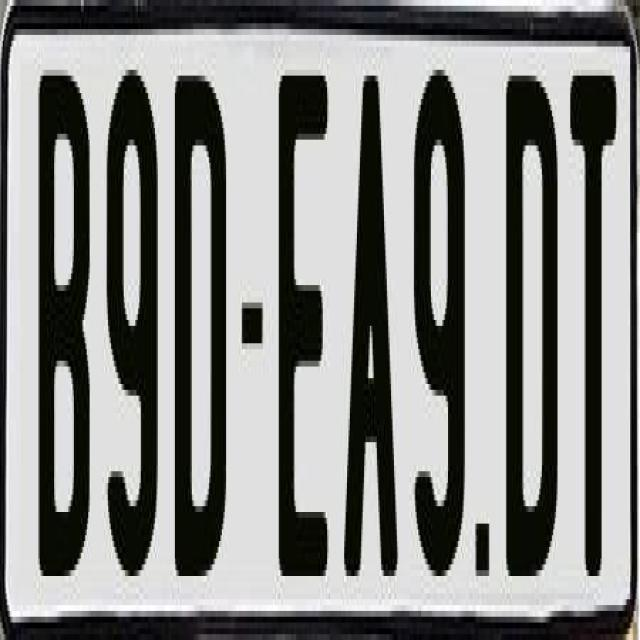9: (412, 64, 470, 582), (102, 70, 158, 600)
A: (340, 76, 401, 612)
B: (36, 70, 91, 570)
D: (502, 58, 558, 588), (173, 70, 224, 594)
E: (274, 64, 328, 588)
T: (568, 58, 612, 576)
